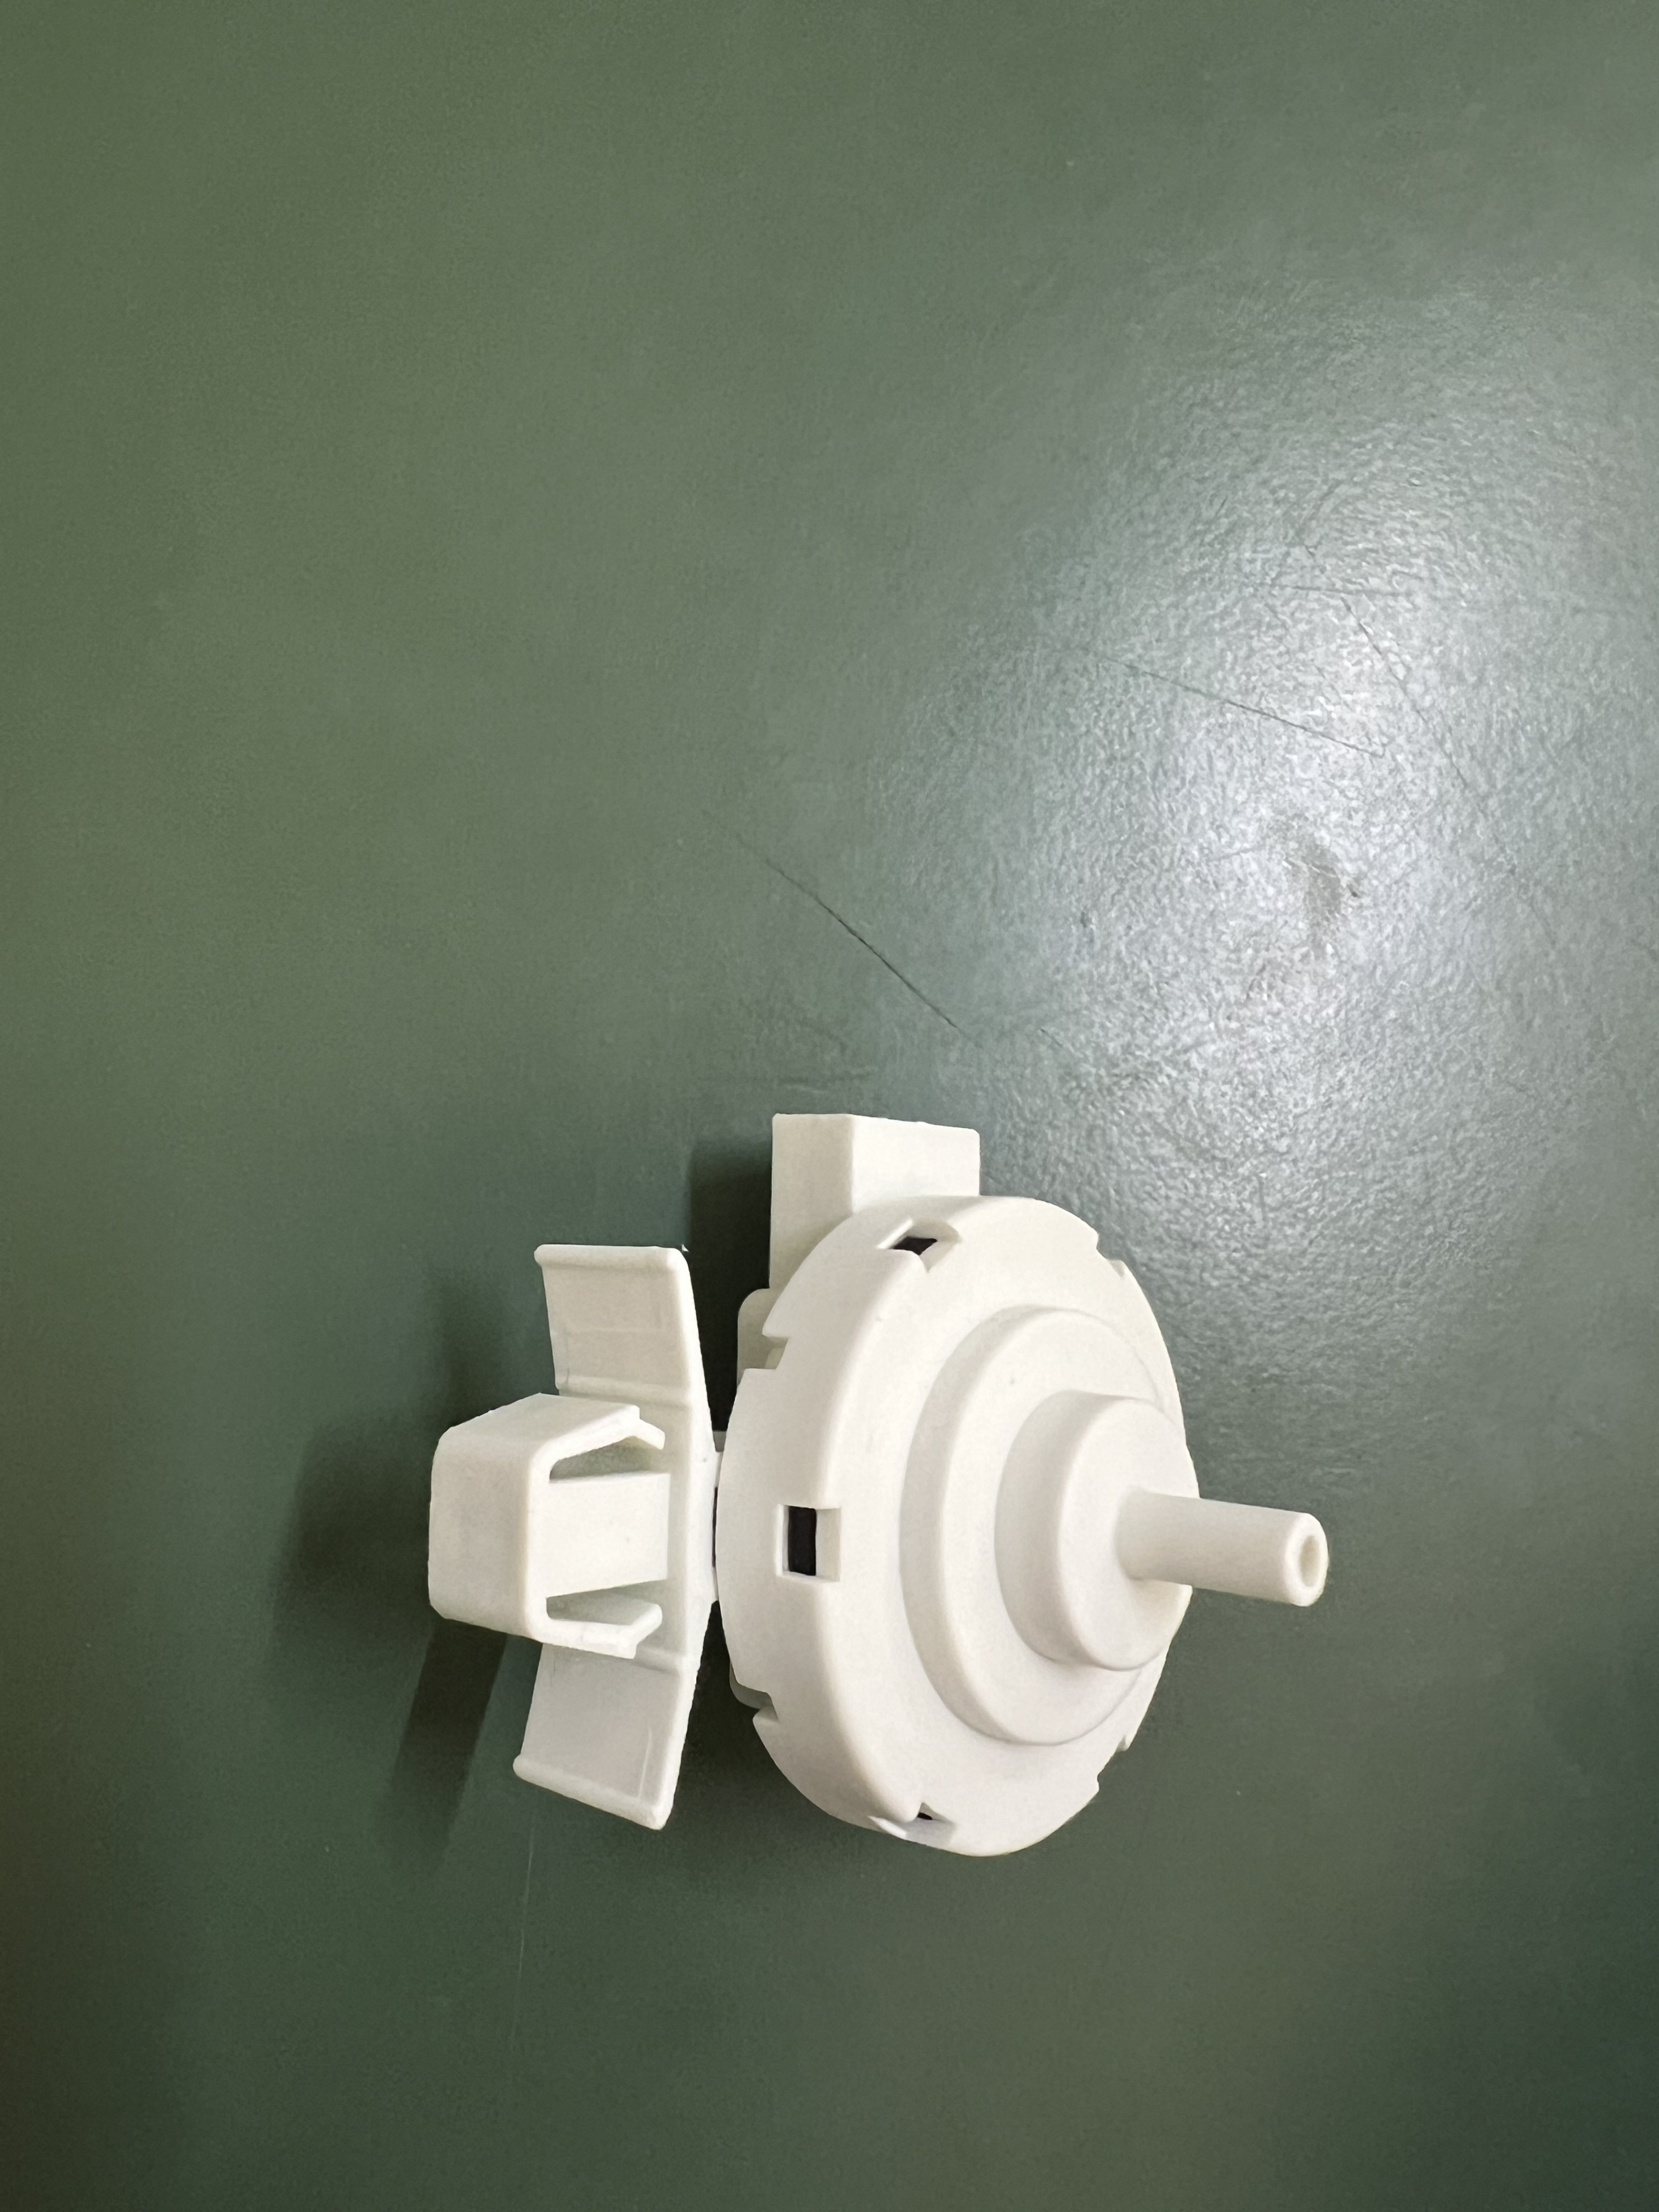pressure_switch_2: (441, 1111, 1354, 1871)
